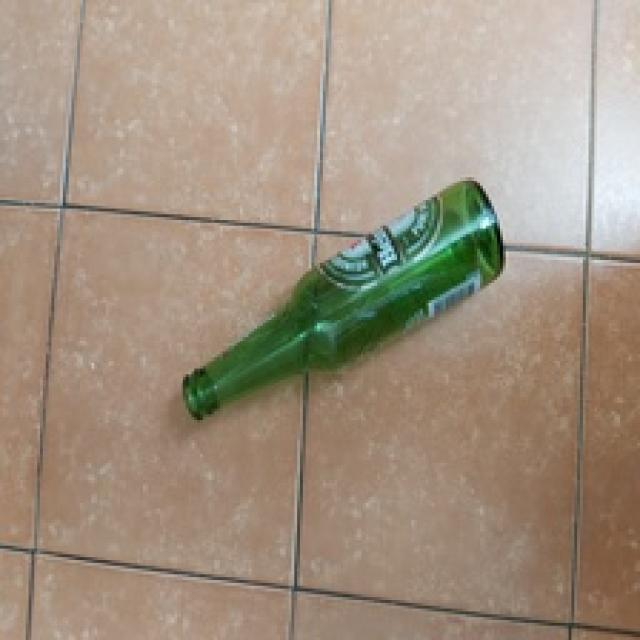Glass: (180, 177, 505, 422)
